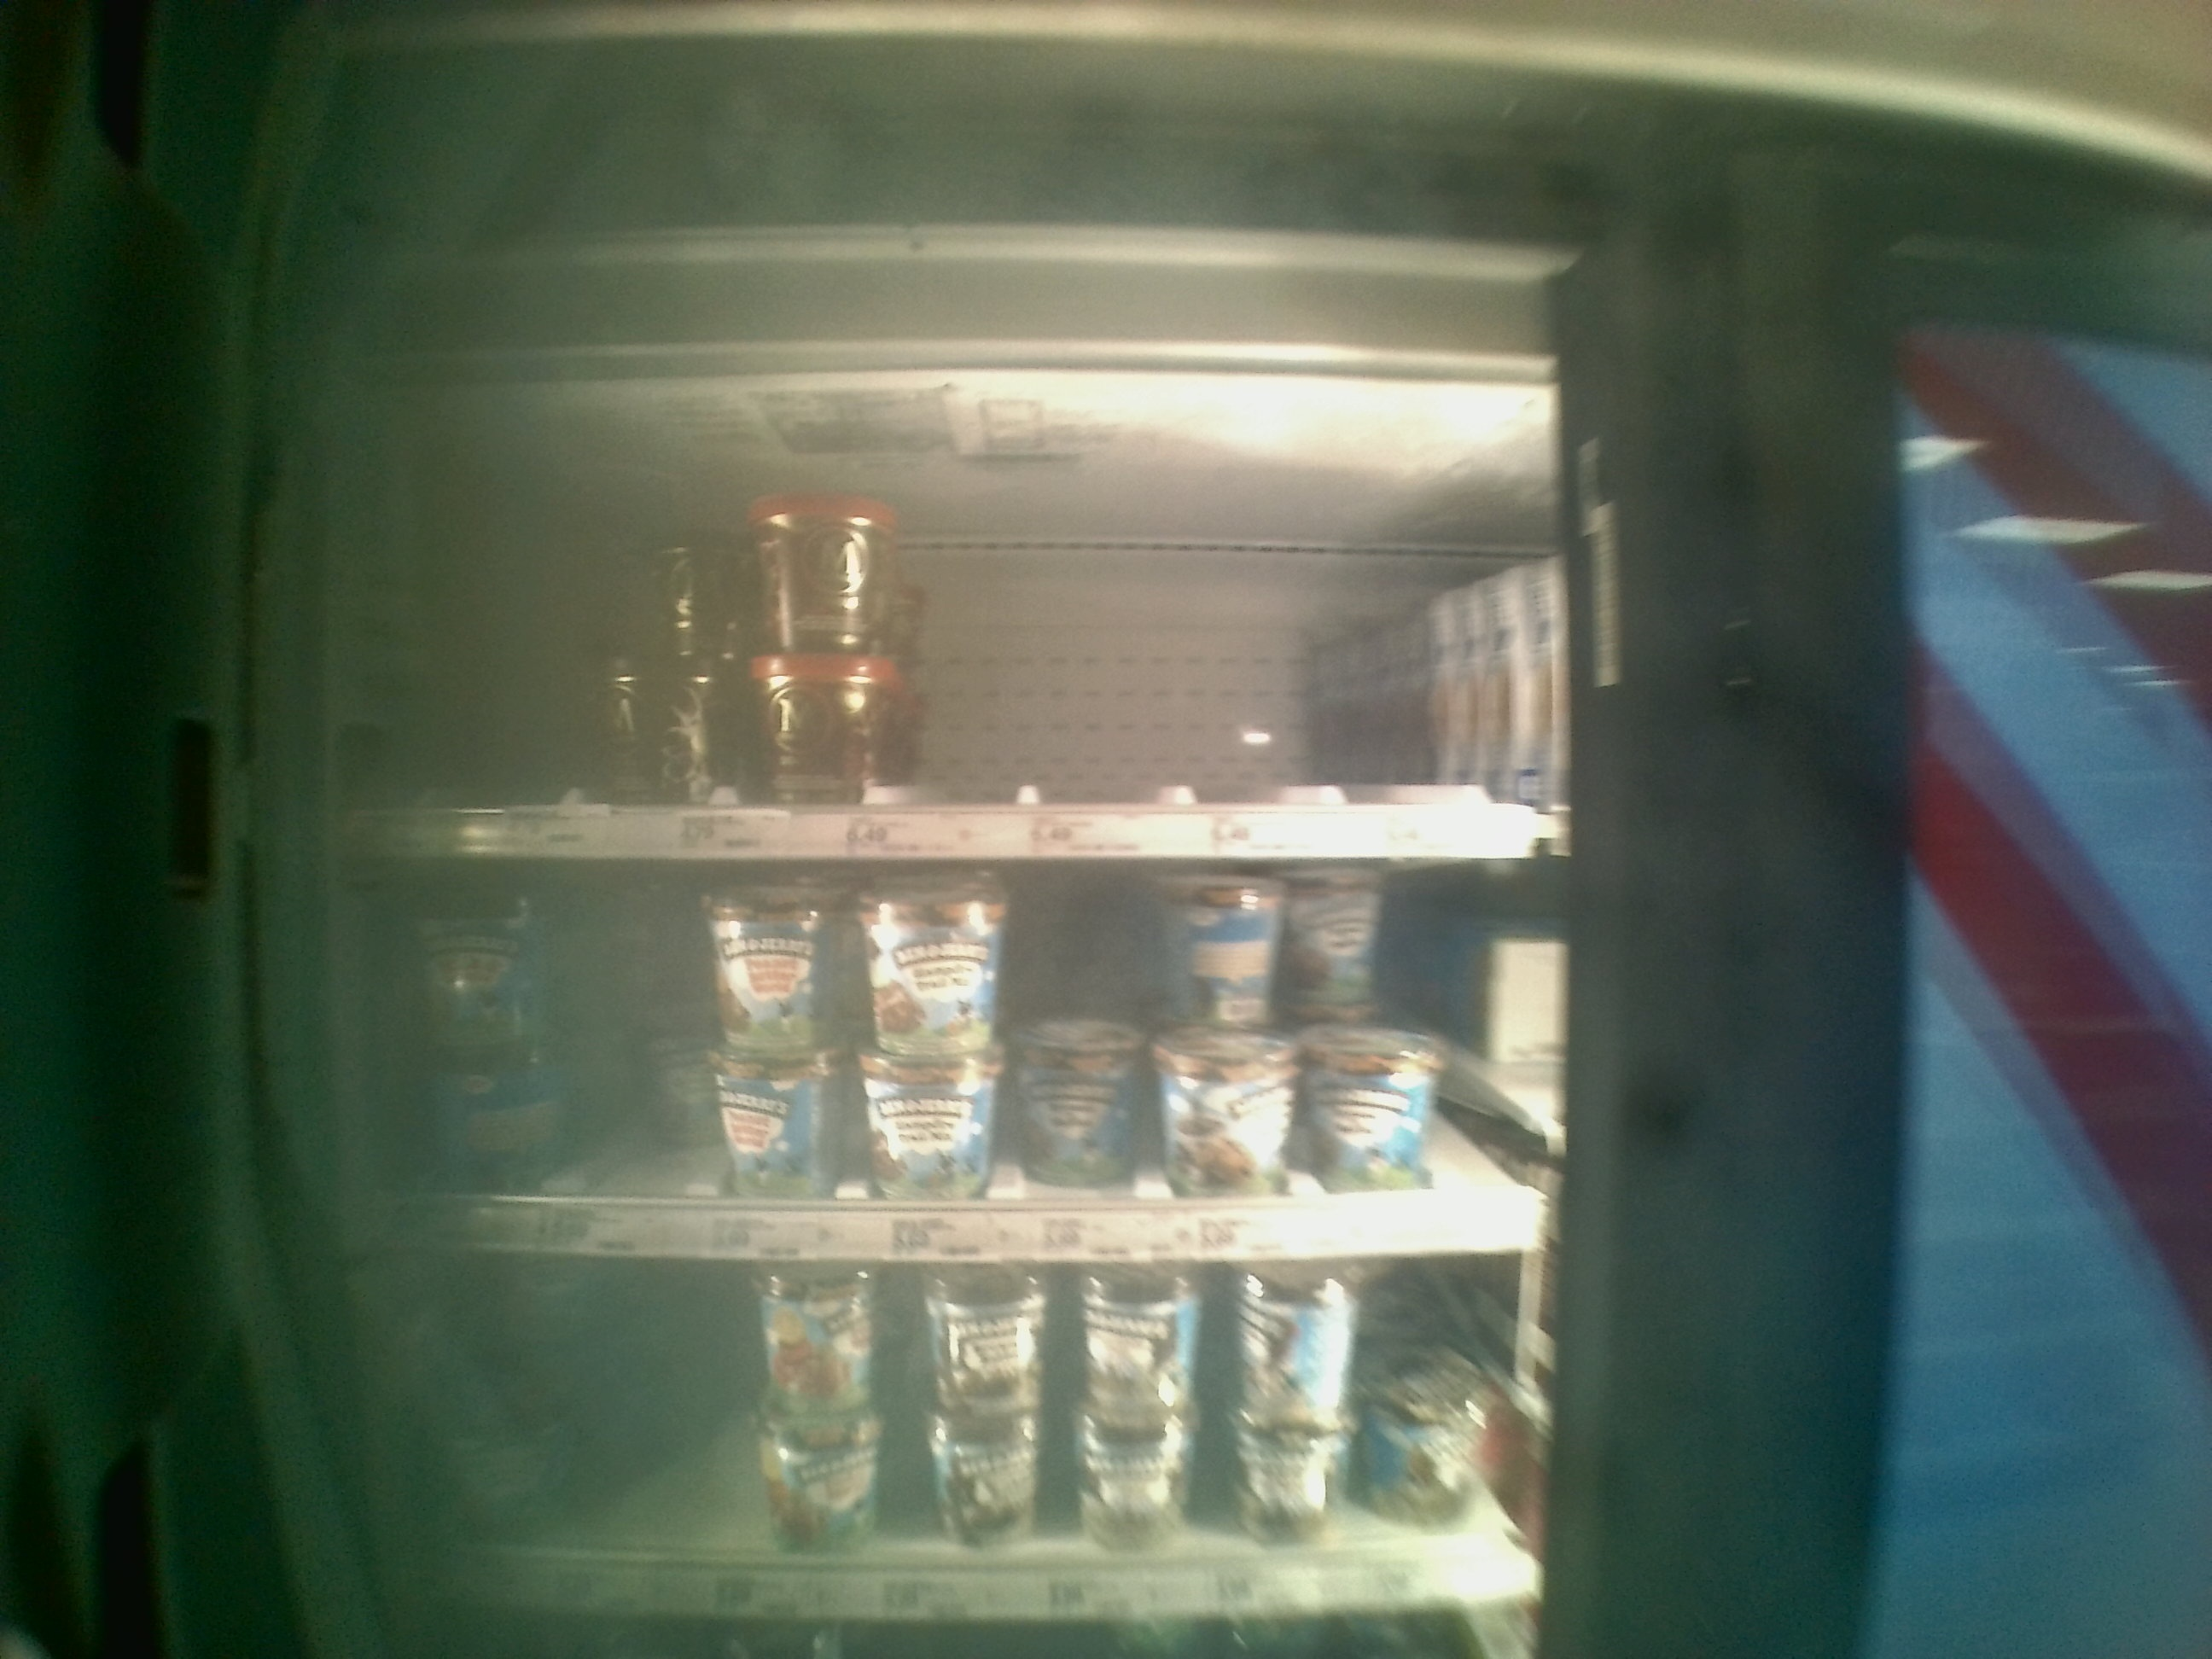ice-cream-shelf: (355, 857, 1554, 1260)
